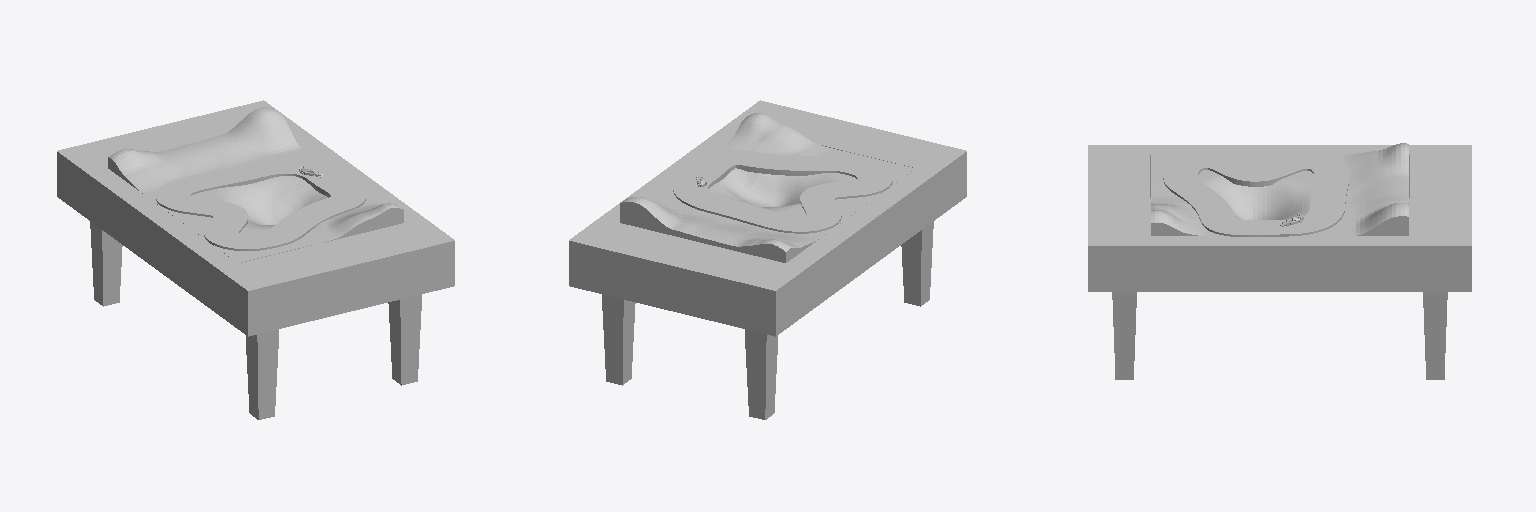
File: NewestTisch19.obj
The picture shows the model from 3 angles: view 1: azimuth 30°, elevation 25°; view 2: azimuth 150°, elevation 25°; view 3: azimuth 270°, elevation 25°; orthographic projection.
Visible parts, largest first — view 1: Tischplatte_wood_table_001, Landschaft_aerial_grass_rock, off, Bein1_wood_table_001, Bein4_wood_table_001.003, Bein3_wood_table_001.002; view 2: Tischplatte_wood_table_001, Landschaft_aerial_grass_rock, off, Bein2_wood_table_001.001, Bein3_wood_table_001.002, Bein4_wood_table_001.003; view 3: Tischplatte_wood_table_001, Landschaft_aerial_grass_rock, off, Bein1_wood_table_001, Bein2_wood_table_001.001.
Part boxes in pixels (x1,y1,x2,y2): Tischplatte_wood_table_001: (57,100,454,336); Landschaft_aerial_grass_rock: (108,107,403,262); off: (156,159,365,250); Bein1_wood_table_001: (388,294,421,385); Bein4_wood_table_001.003: (246,329,278,419); Bein3_wood_table_001.002: (90,221,122,306); Tischplatte_wood_table_001: (569,100,966,336); Landschaft_aerial_grass_rock: (620,113,915,262); off: (673,150,892,233); Bein2_wood_table_001.001: (602,294,635,385); Bein3_wood_table_001.002: (745,329,777,419); Bein4_wood_table_001.003: (901,221,933,306); Tischplatte_wood_table_001: (1088,145,1471,291); Landschaft_aerial_grass_rock: (1151,143,1408,235); off: (1163,153,1348,236); Bein1_wood_table_001: (1112,292,1136,379); Bein2_wood_table_001.001: (1423,292,1447,379).
Bounding box in the file's own units: 5 × 3.91 × 8.